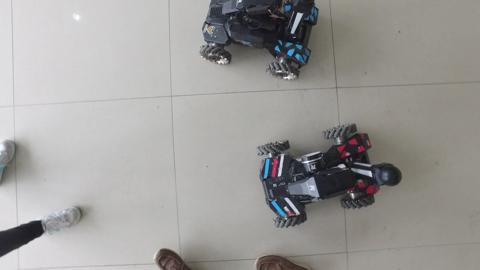chariot: (257, 116, 404, 235), (194, 1, 324, 86)
